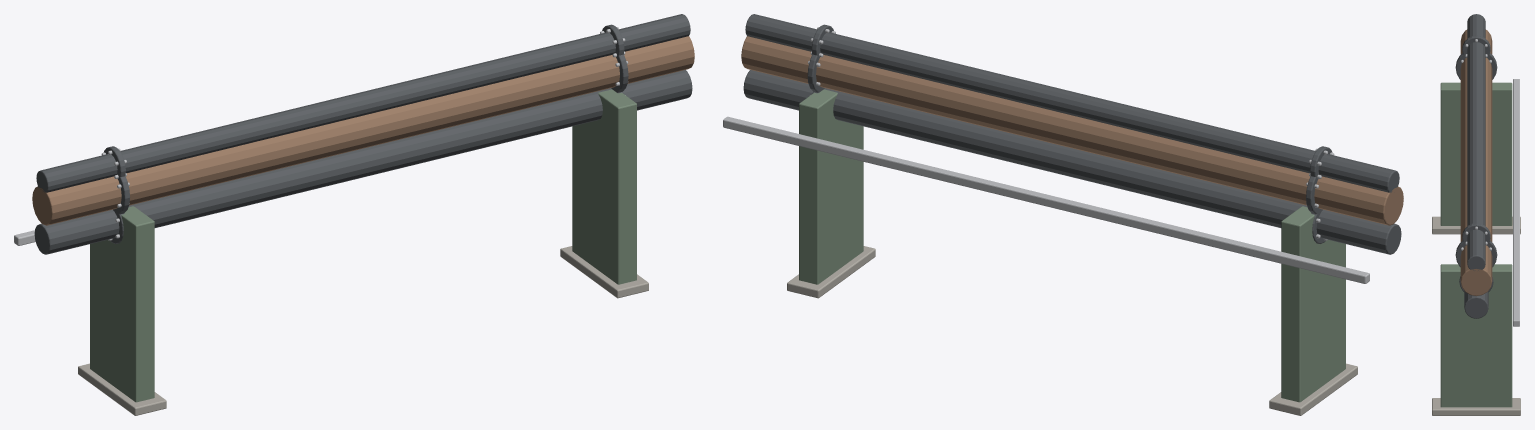
Rendered from pipe_rack_4.fbx.
3 views of the same model, side by side, from view 1: azimuth 30°, elevation 25°; view 2: azimuth 150°, elevation 25°; view 3: azimuth 270°, elevation 25° (orthographic). The views are drawn at different scales.
Parts seen in each view (by area): view 1: pipe_rack_4; view 2: pipe_rack_4; view 3: pipe_rack_4.
Boxes of the visible parts, x1,y1,x2,y2 form: pipe_rack_4: (14,14,694,415); pipe_rack_4: (723,14,1403,415); pipe_rack_4: (1432,14,1520,415).
Bounding box in the file's own units: 4 × 1.46 × 0.62.
